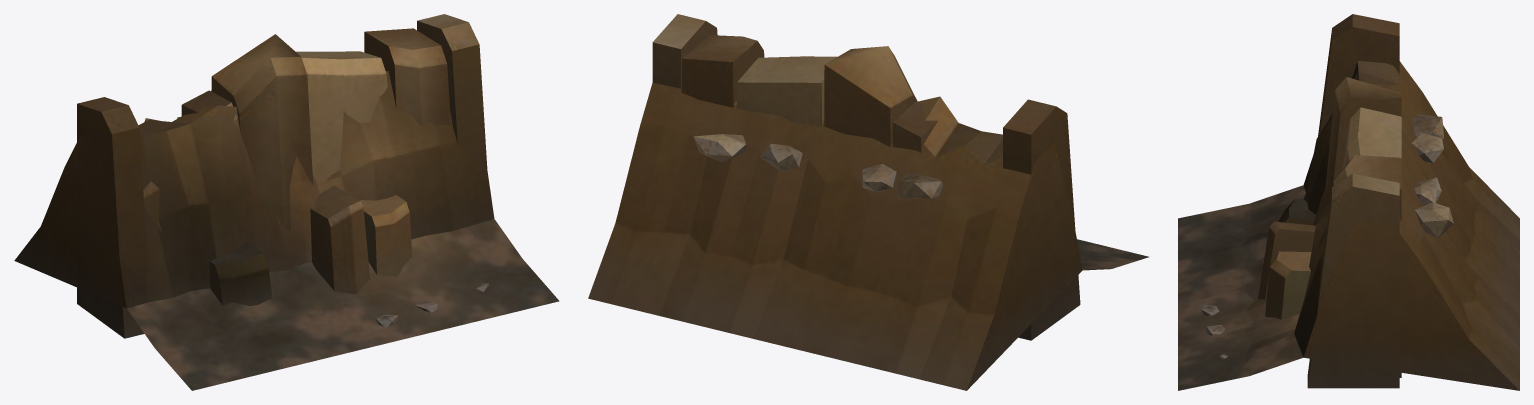
File: cliff-sides.glb
3 views of the same model, side by side, from view 1: azimuth 30°, elevation 25°; view 2: azimuth 150°, elevation 25°; view 3: azimuth 270°, elevation 25° (orthographic). The views are drawn at different scales.
Visible parts, largest first — view 1: cliff-sides; view 2: cliff-sides; view 3: cliff-sides.
Boxes of the visible parts, x1,y1,x2,y2 form: cliff-sides: (14, 14, 559, 390); cliff-sides: (588, 14, 1148, 390); cliff-sides: (1178, 14, 1519, 390).
Size of the model in its own units: 4 by 2.37 by 3.35.
3 materials, 3 textured.
